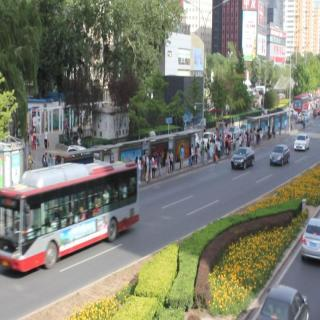Car: (0, 157, 143, 276), (257, 278, 316, 320), (301, 197, 320, 273), (228, 145, 259, 184), (289, 120, 310, 160), (268, 139, 286, 178), (202, 125, 219, 152), (224, 122, 243, 142)
